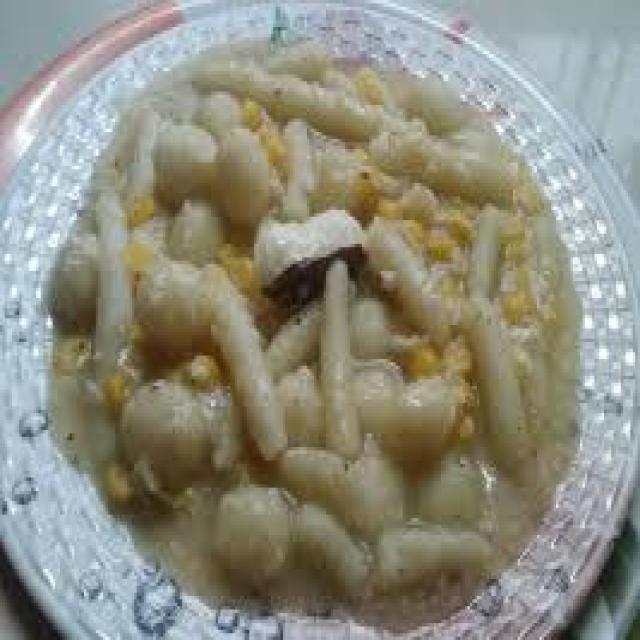paal kolukattai: (46, 8, 597, 640)
